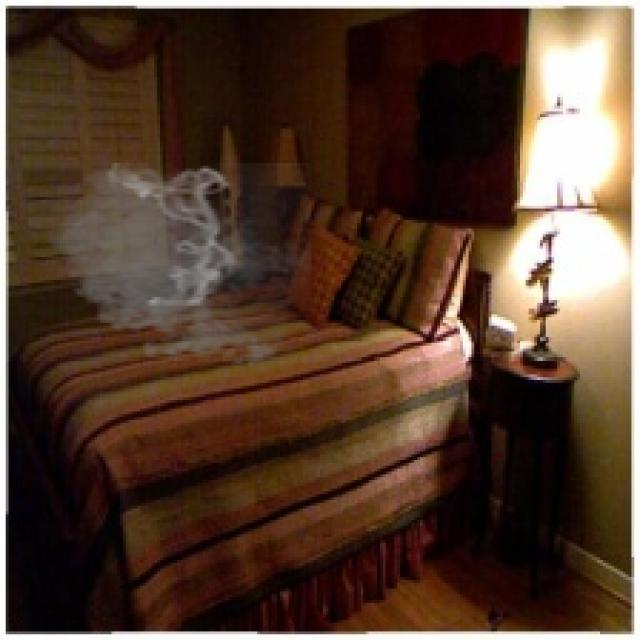smoke: (35, 160, 312, 371)
